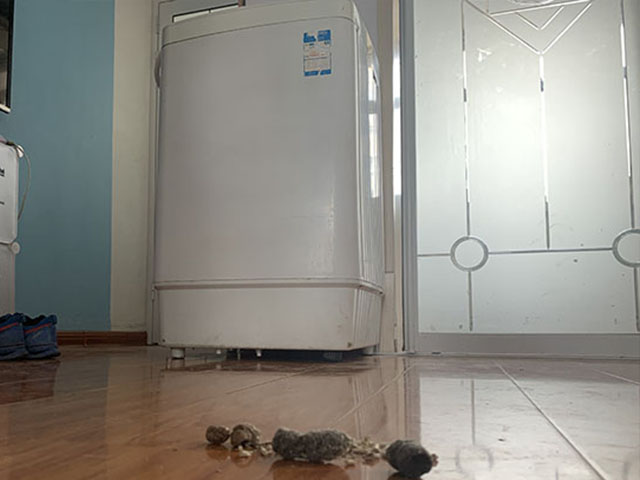feces: (271, 423, 352, 464), (380, 436, 441, 478), (203, 421, 264, 449)
